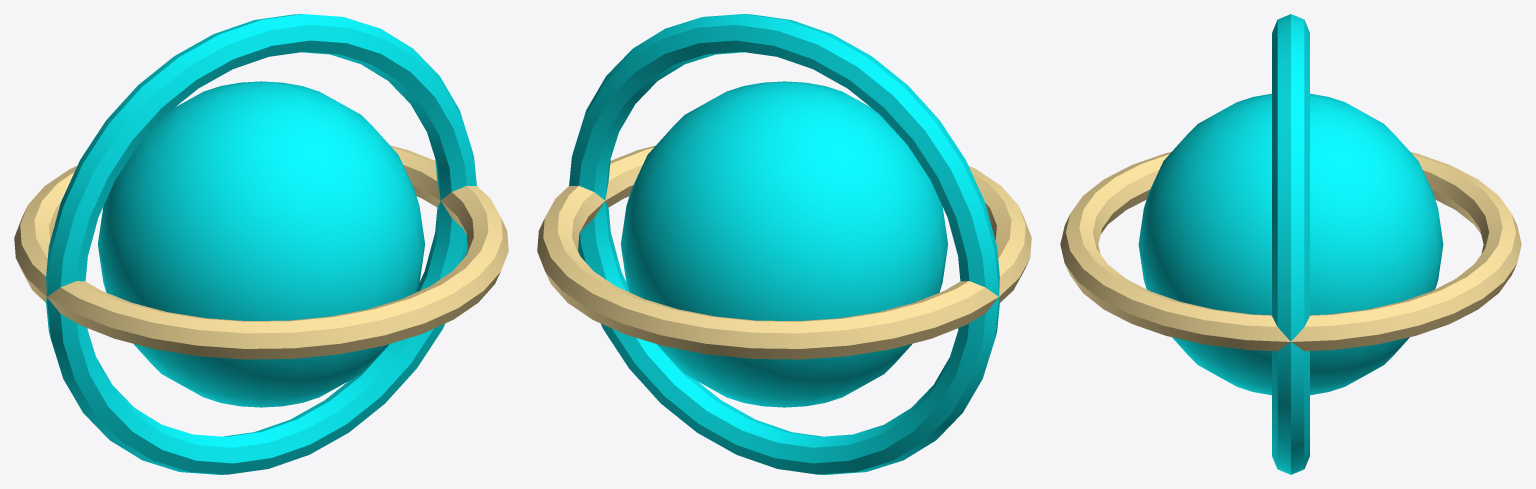
The model's file is photon_pulse.glb.
The picture shows the model from 3 angles, left to right: view 1: azimuth 30°, elevation 25°; view 2: azimuth 150°, elevation 25°; view 3: azimuth 270°, elevation 25°; orthographic projection. The views are drawn at different scales.
Visible parts, largest first — view 1: Sphere; view 2: Sphere; view 3: Sphere.
Part boxes in pixels (x1,y1,x2,y2): Sphere: (14,14,508,474); Sphere: (537,14,1031,474); Sphere: (1060,14,1521,474).
Size of the model in its own units: 1.09 by 1.09 by 1.09.
